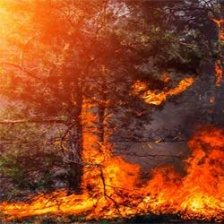fire: (1, 106, 224, 224)
